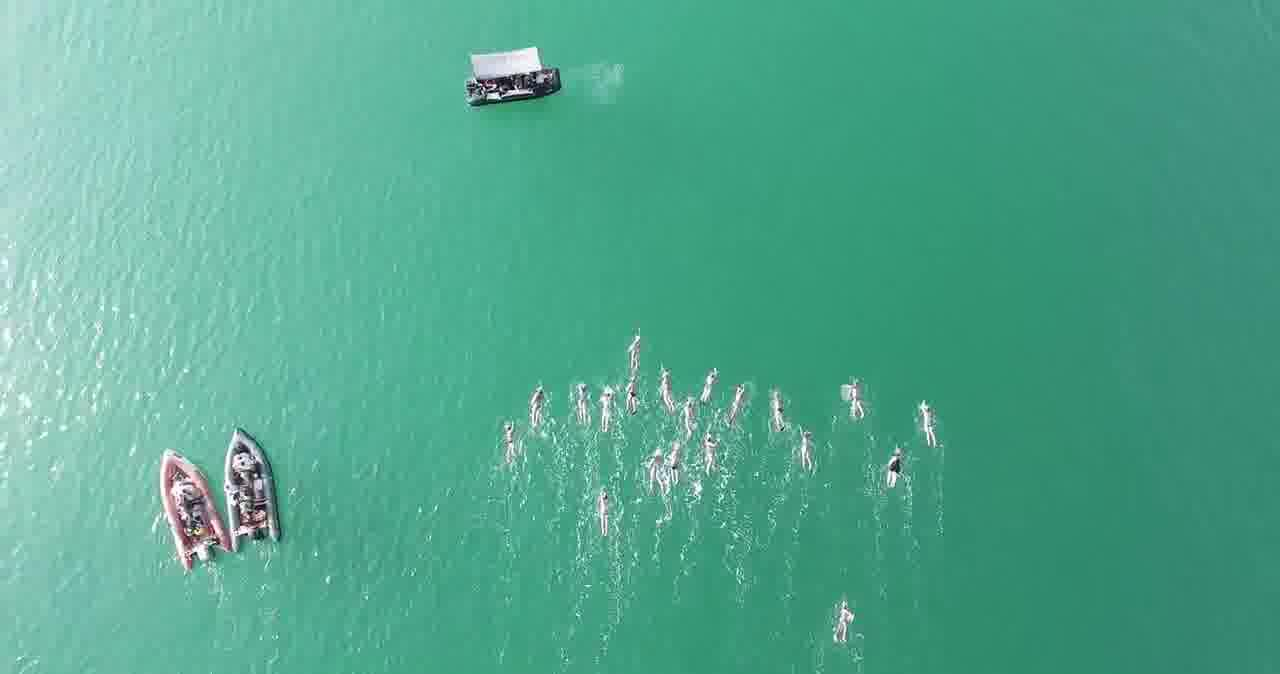human: (912, 386, 939, 455), (841, 369, 870, 430), (830, 592, 861, 646), (585, 482, 611, 534), (761, 384, 790, 428), (519, 383, 547, 424), (493, 417, 517, 464), (705, 431, 729, 478), (621, 332, 647, 372), (799, 424, 822, 469), (881, 438, 898, 494), (645, 442, 662, 492), (571, 370, 590, 413), (680, 391, 697, 438), (666, 432, 681, 483), (658, 360, 672, 410), (701, 361, 717, 398), (603, 379, 616, 423), (733, 374, 744, 420), (626, 372, 638, 413)
